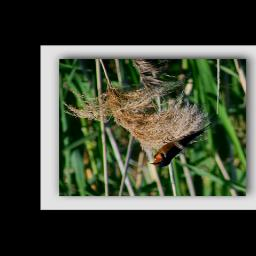Swallow: (148, 126, 211, 169)
